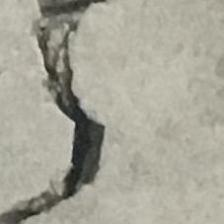Crack: (0, 0, 169, 224)
